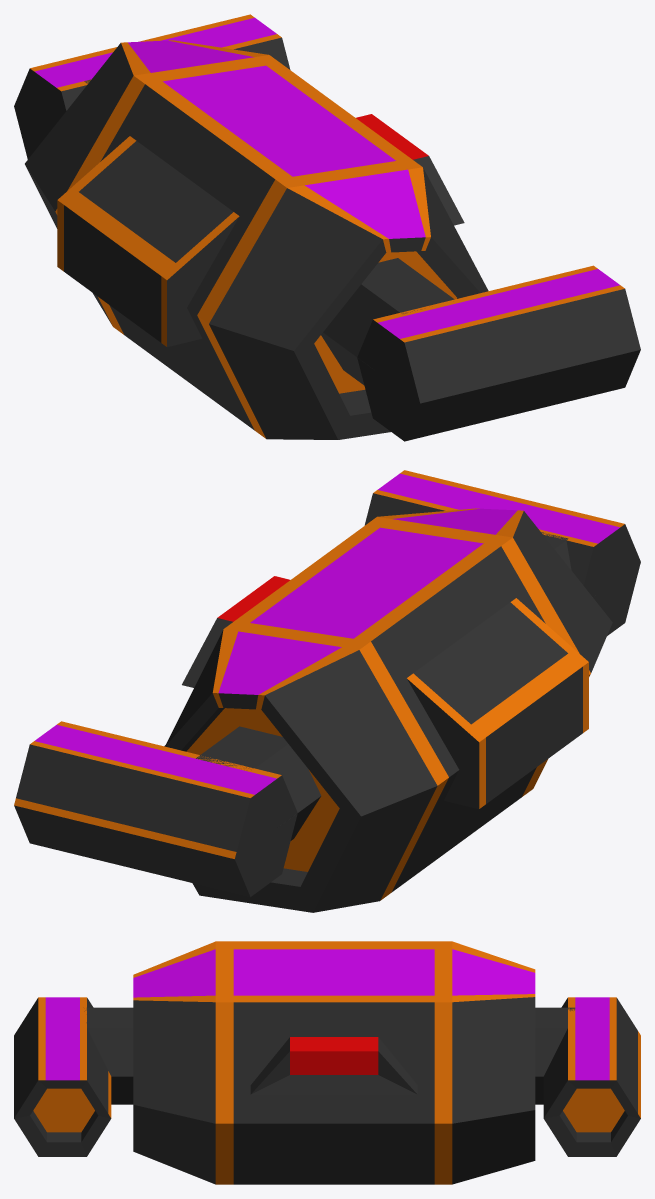
File: mob2.fbx
3 renders of one model, top to bottom at view 1: azimuth 30°, elevation 25°; view 2: azimuth 150°, elevation 25°; view 3: azimuth 270°, elevation 25°, orthographic. The views are drawn at different scales.
Parts seen in each view (by area): view 1: Cylinder, Cylinder.003, Cube.001, Cylinder.002, Cylinder.004, Cube; view 2: Cylinder, Cylinder.002, Cube.001, Cylinder.003, Cylinder.001, Cube; view 3: Cylinder, Cylinder.003, Cylinder.002, Cube, Cylinder.004, Cylinder.001.
Part boxes in pixels (left/top/right/bottom): Cylinder: left=25, top=40, right=488, bottom=439; Cylinder.003: left=357, top=265, right=640, bottom=441; Cube.001: left=57, top=136, right=239, bottom=346; Cylinder.002: left=14, top=14, right=290, bottom=159; Cylinder.004: left=321, top=258, right=454, bottom=384; Cube: left=356, top=114, right=464, bottom=225; Cylinder: left=164, top=508, right=612, bottom=912; Cylinder.002: left=14, top=721, right=297, bottom=897; Cube.001: left=406, top=598, right=588, bottom=808; Cylinder.003: left=364, top=470, right=640, bottom=635; Cylinder.001: left=196, top=726, right=321, bottom=840; Cube: left=182, top=576, right=289, bottom=687; Cylinder: left=133, top=941, right=535, bottom=1184; Cylinder.003: left=14, top=997, right=111, bottom=1156; Cylinder.002: left=543, top=997, right=640, bottom=1156; Cube: left=250, top=1037, right=417, bottom=1094; Cylinder.004: left=84, top=1007, right=133, bottom=1104; Cylinder.001: left=535, top=1007, right=575, bottom=1104.
Size of the model in its own units: 236 by 181 by 516.
